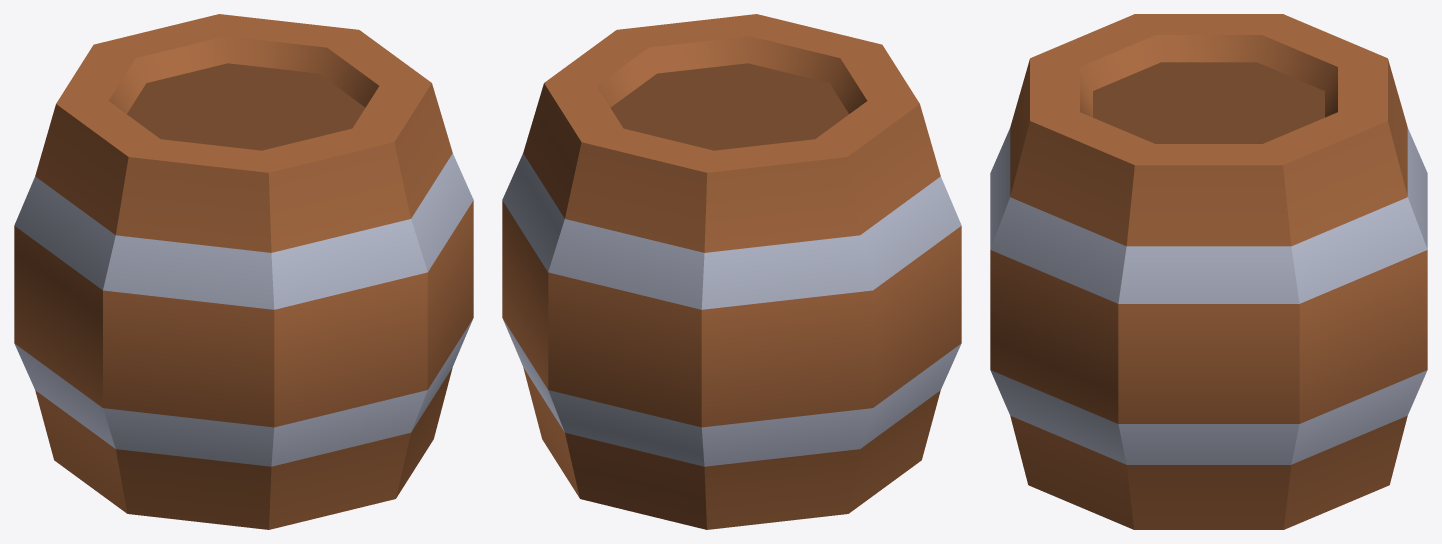
File: barrel.glb
3 views of the same model, side by side, from view 1: azimuth 30°, elevation 25°; view 2: azimuth 150°, elevation 25°; view 3: azimuth 270°, elevation 25° (orthographic). The views are drawn at different scales.
Visible parts, largest first — view 1: barrel; view 2: barrel; view 3: barrel.
Boxes of the visible parts, <box> form: barrel: <box>14,14,473,529</box>; barrel: <box>502,14,961,529</box>; barrel: <box>990,14,1427,529</box>.
Bounding box in the file's own units: 0.4358 × 0.4002 × 0.4358.
